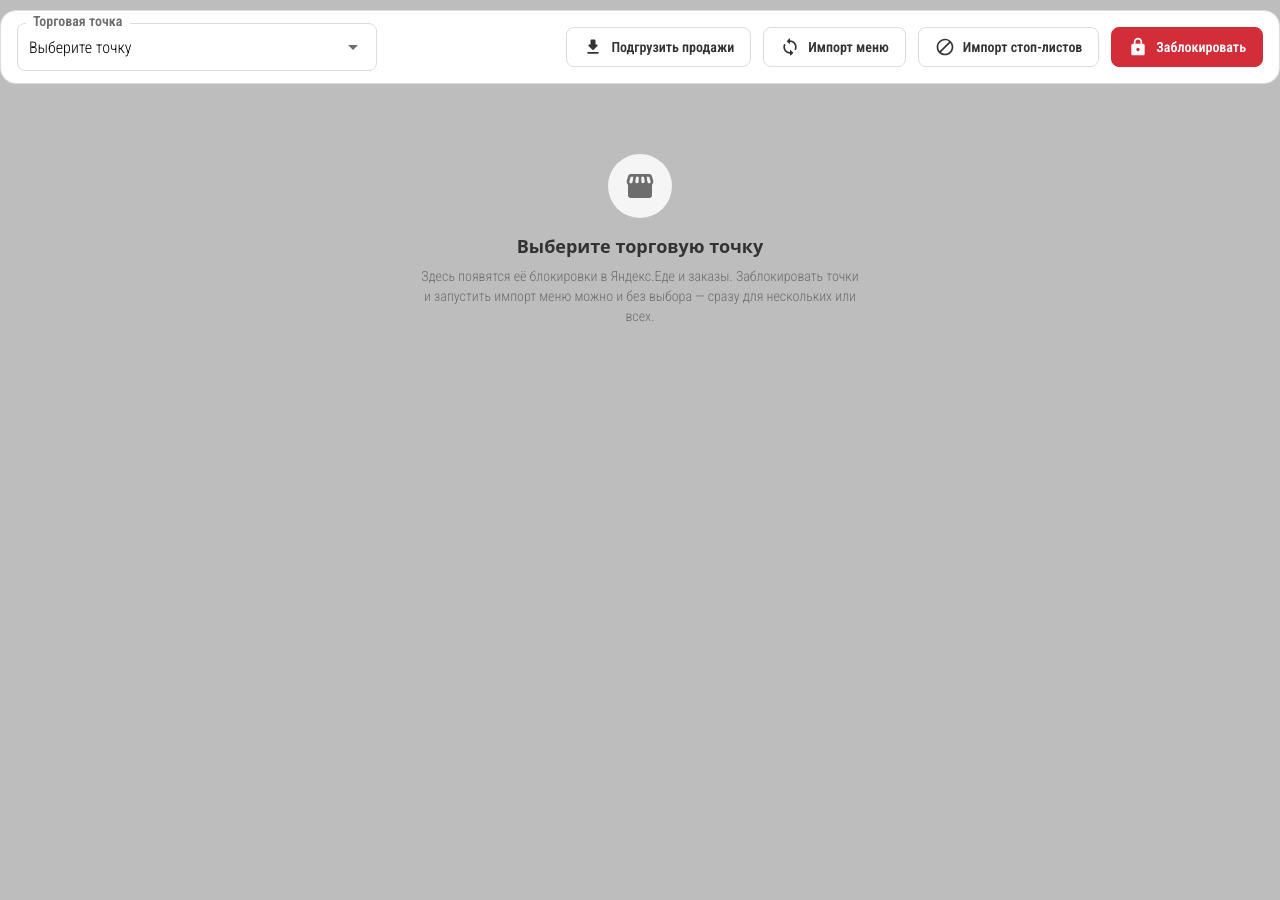
Test: shows the order as a card with its items instead of raw JSON
The image size is (1280, 900).
What coordinates should you click on to do the following:
click the button named "Торговая точка"
I would click on:
 (80, 47)
Its box is [17, 23, 377, 71].
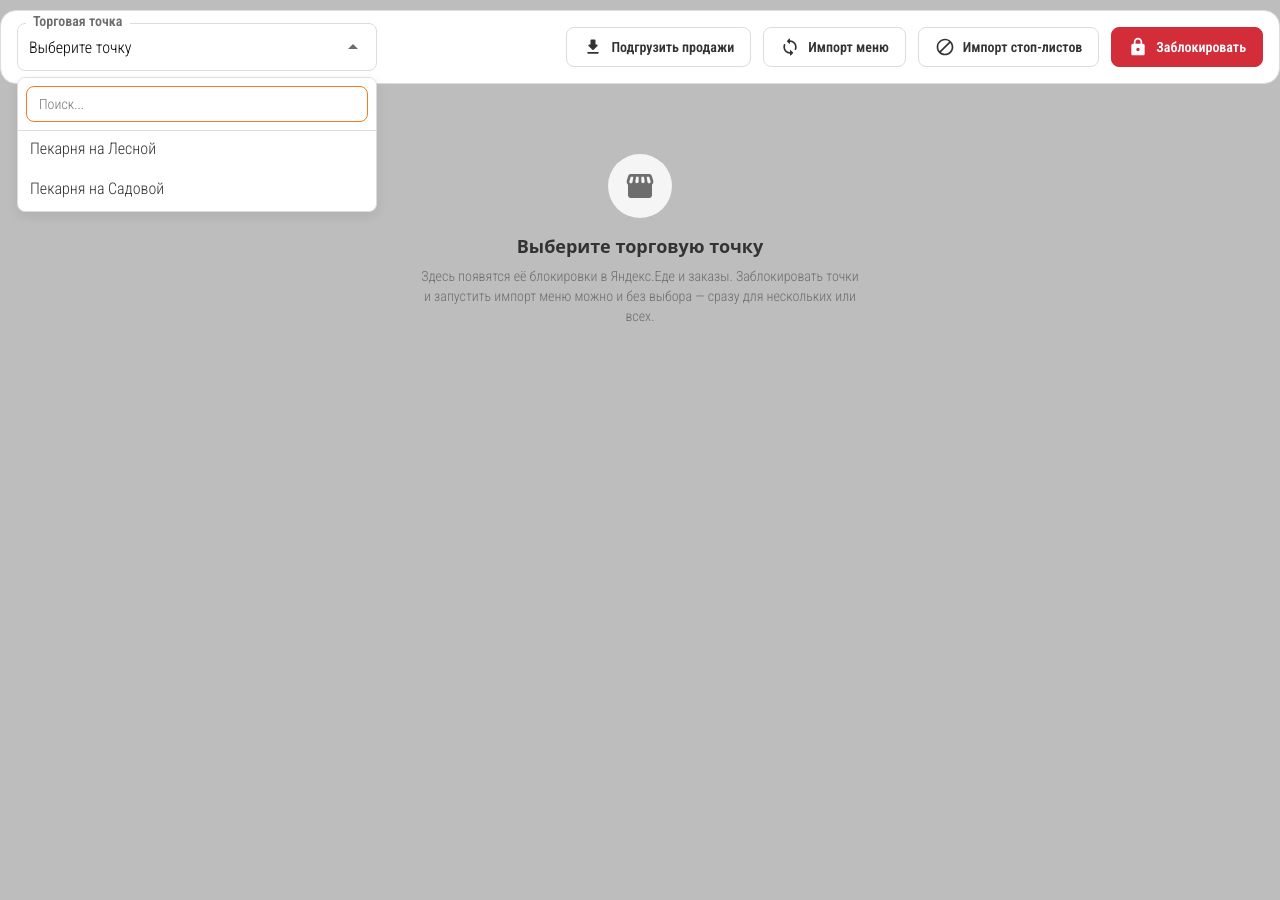
What coordinates should you click on to do the following:
click the option "Пекарня на Лесной"
I would click on:
 (93, 148)
Its box is [30, 139, 156, 158].
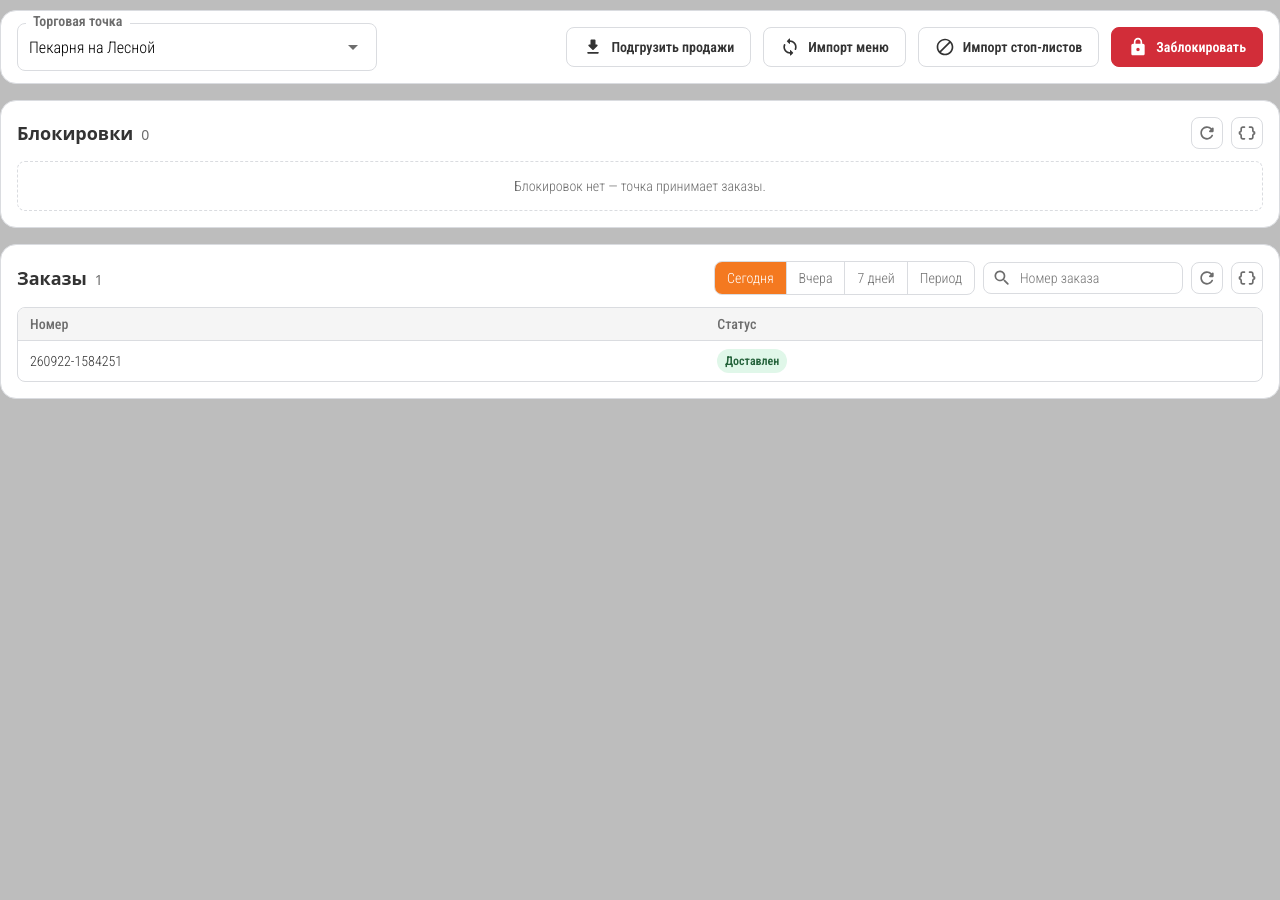
What coordinates should you click on to do the following:
click the row named "Детали заказа 260922-1584251"
I would click on:
 (76, 361)
Its box is [18, 340, 1262, 381].
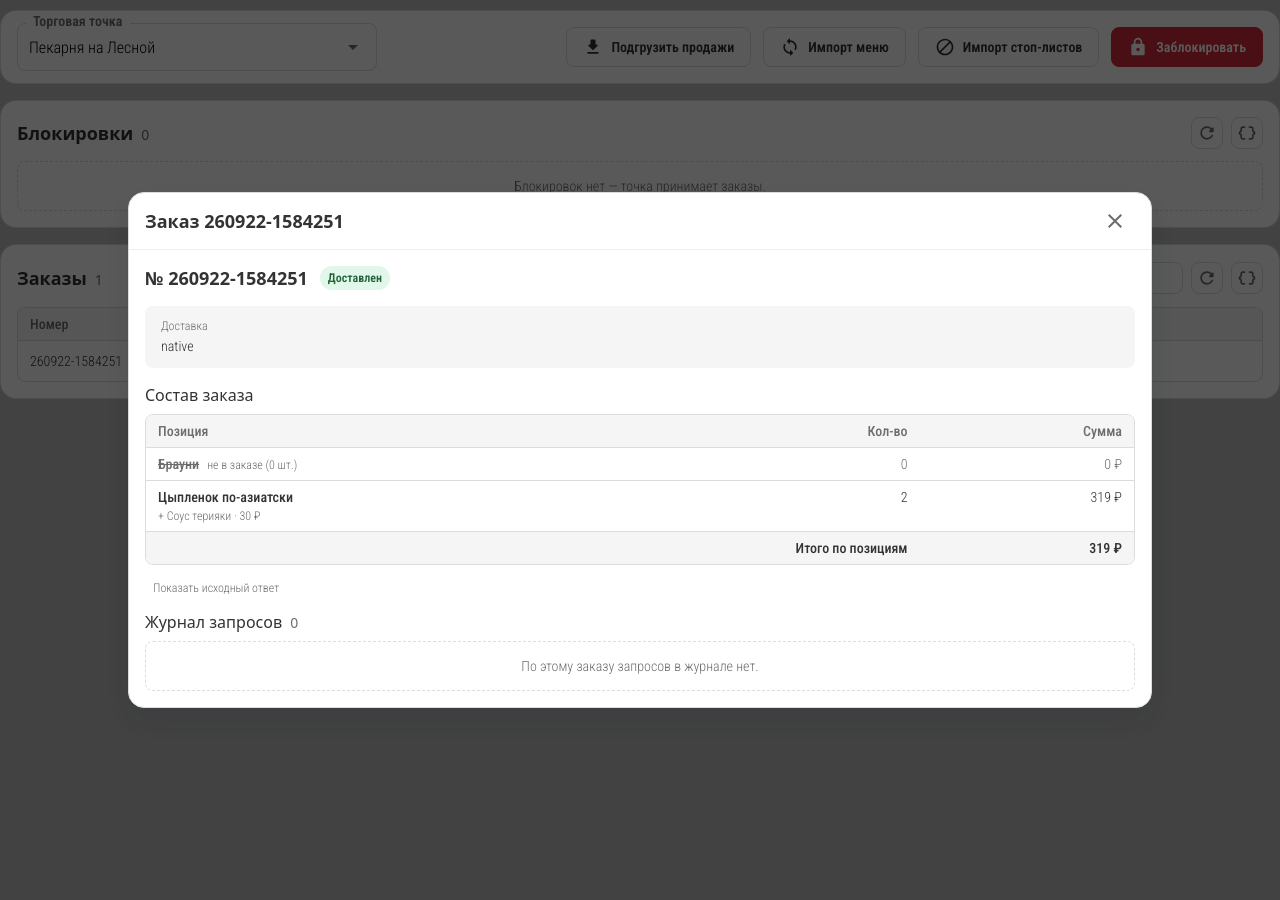
Check: the heading "Состав заказа" is shown, box [145, 384, 254, 406]
Check: the text "Цыпленок по-азиатски" is shown, box [158, 489, 293, 505]
Check: the list item "+ Соус терияки · 30 ₽" is shown, box [158, 509, 261, 523]
